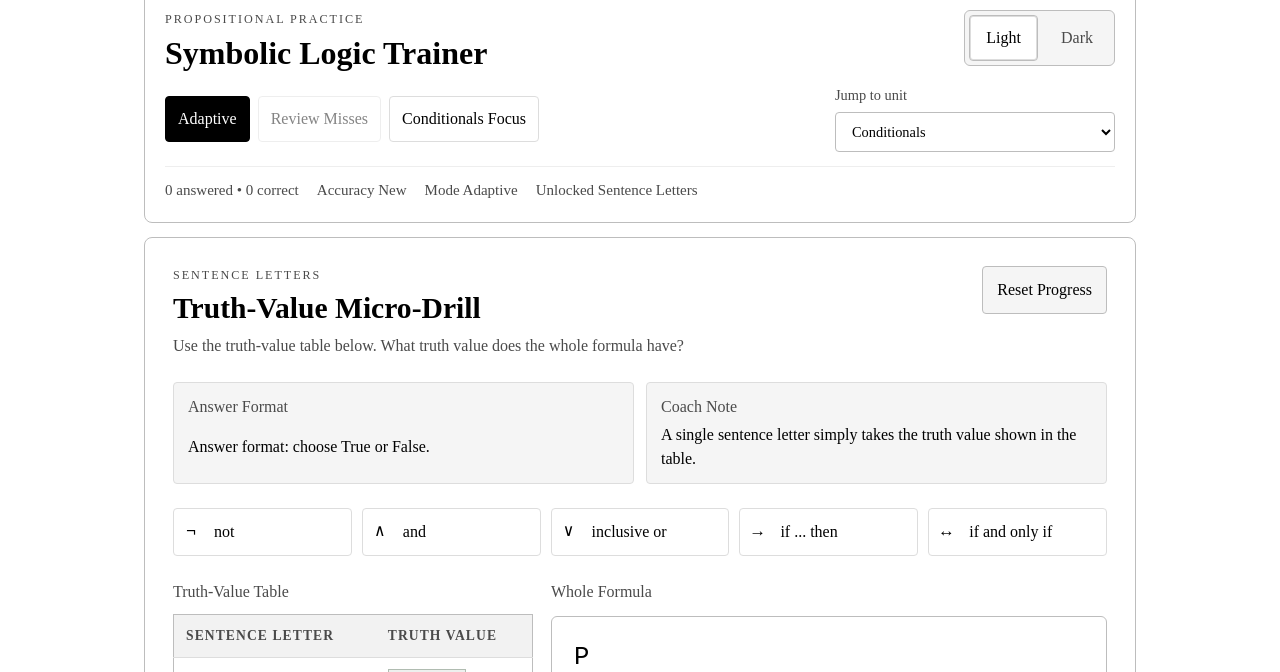
Scenario: trainer app › lets the user jump to another unit
This screenshot has width=1280, height=672.
Select "Validity Basics" in the dropdown labelled "Jump to unit" at (975, 132), box [835,112,1115,152]
(page scrolled)
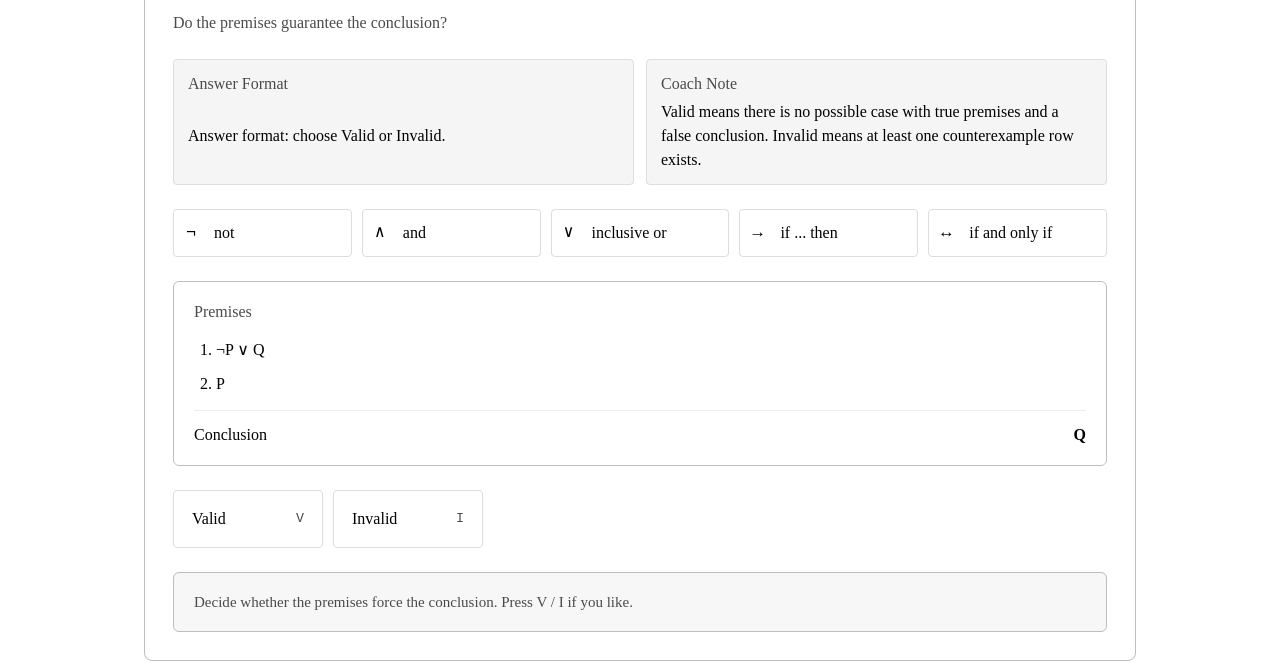
Expected: the button "Valid V" is shown, [173,490,323,548]
Expected: the button "Invalid I" is shown, [333,490,483,548]
